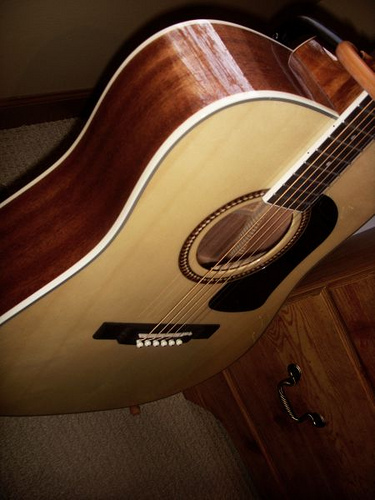guitar: (1, 20, 372, 418)
